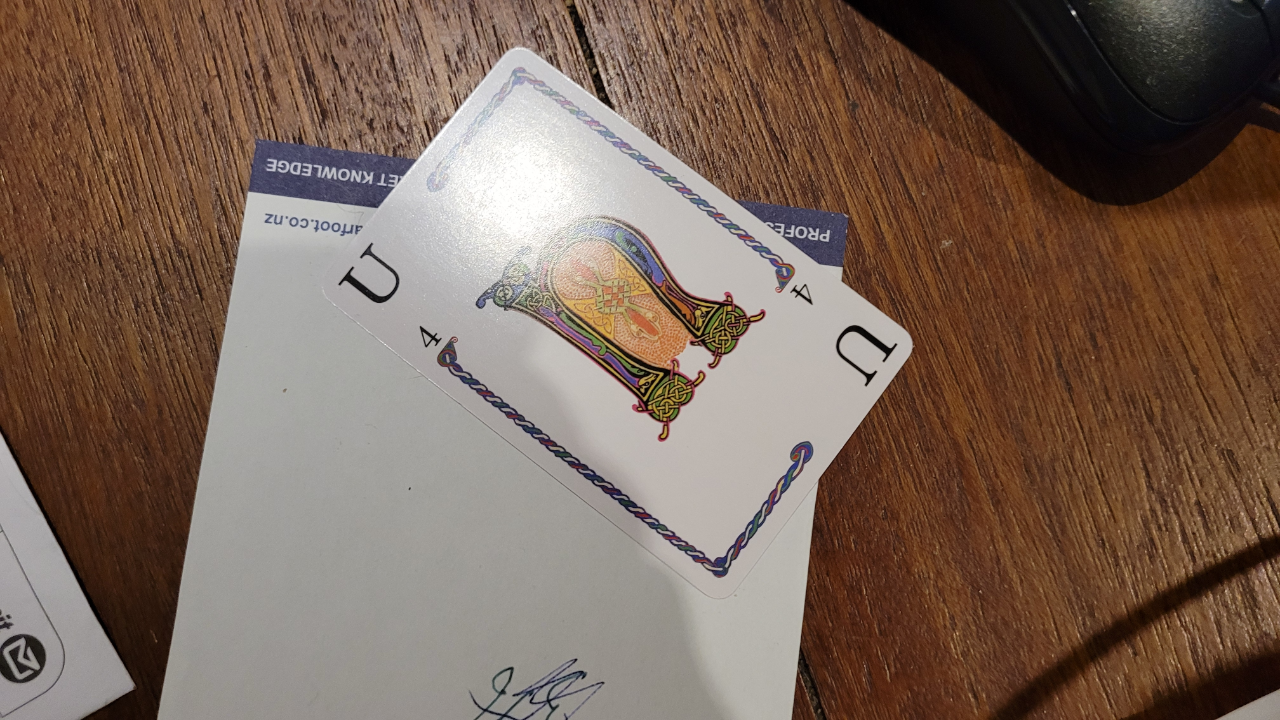quiddler_card: (304, 42, 949, 611)
